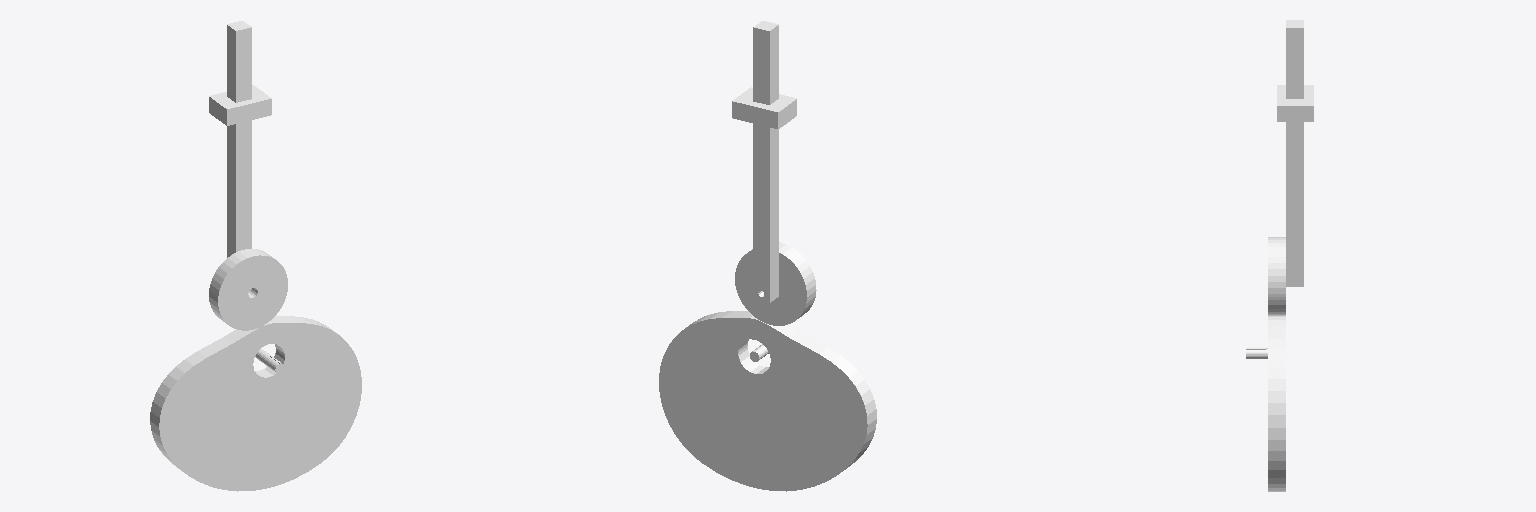
URDF robot description (cam.SLDASM):
<?xml version="1.0" encoding="utf-8"?>
<!-- This URDF was automatically created by SolidWorks to URDF Exporter! Originally created by [author] ([email redacted]) 
     Commit Version: 1.6.0-4-g7f85cfe  Build Version: 1.6.7995.38578
     For more information, please see http://wiki.ros.org/sw_urdf_exporter -->
<robot
  name="cam.SLDASM">
  <link
    name="base_link">
    <inertial>
      <origin
        xyz="0.00516771533428161 -0.14768022954333 0.0192011585485057"
        rpy="0 0 0" />
      <mass
        value="0.000625677275979962" />
      <inertia
        ixx="2.66695147124345E-08"
        ixy="-4.46270353436079E-12"
        ixz="-7.98052308845236E-12"
        iyy="2.66355625905794E-08"
        iyz="-6.18214002186702E-11"
        izz="2.83505957294567E-09" />
    </inertial>
    <visual>
      <origin
        xyz="0 0 0"
        rpy="0 0 0" />
      <geometry>
        <mesh
          filename="package://cam.SLDASM/meshes/base_link.STL" />
      </geometry>
      <material
        name="">
        <color
          rgba="1 1 1 1" />
      </material>
    </visual>
    <collision>
      <origin
        xyz="0 0 0"
        rpy="0 0 0" />
      <geometry>
        <mesh
          filename="package://cam.SLDASM/meshes/base_link.STL" />
      </geometry>
    </collision>
  </link>
  <link
    name="cam_link">
    <inertial>
      <origin
        xyz="-0.00356715717082566 -0.0284751150841584 0.00499971930811462"
        rpy="0 0 0" />
      <mass
        value="0.0932420859273589" />
      <inertia
        ixx="5.44448424617422E-05"
        ixy="1.9417859569232E-06"
        ixz="1.13490266794473E-10"
        iyy="9.84612983282398E-05"
        iyz="-2.23481033347778E-11"
        izz="0.0001513520083394" />
    </inertial>
    <visual>
      <origin
        xyz="0 0 0"
        rpy="0 0 0" />
      <geometry>
        <mesh
          filename="package://cam.SLDASM/meshes/cam_link.STL" />
      </geometry>
      <material
        name="">
        <color
          rgba="1 1 1 1" />
      </material>
    </visual>
    <collision>
      <origin
        xyz="0 0 0"
        rpy="0 0 0" />
      <geometry>
        <mesh
          filename="package://cam.SLDASM/meshes/cam_link.STL" />
      </geometry>
    </collision>
  </link>
  <joint
    name="joint1"
    type="continuous">
    <origin
      xyz="0.0051654 -0.0081691 -0.1477"
      rpy="1.5708 0.0054199 0" />
    <parent
      link="base_link" />
    <child
      link="cam_link" />
    <axis
      xyz="0 0 1" />
  </joint>
  <link
    name="link2">
    <inertial>
      <origin
        xyz="0.0029916353143129 -0.0786105751020638 0.005"
        rpy="0 0 0" />
      <mass
        value="0.0157169361063451" />
      <inertia
        ixx="3.2547397545957E-05"
        ixy="1.22788339509305E-21"
        ixz="-1.07819767184313E-23"
        iyy="2.62779971864936E-07"
        iyz="-3.95782292676014E-22"
        izz="3.25482285827161E-05" />
    </inertial>
    <visual>
      <origin
        xyz="0 0 0"
        rpy="0 0 0" />
      <geometry>
        <mesh
          filename="package://cam.SLDASM/meshes/link2.STL" />
      </geometry>
      <material
        name="">
        <color
          rgba="1 1 1 1" />
      </material>
    </visual>
    <collision>
      <origin
        xyz="0 0 0"
        rpy="0 0 0" />
      <geometry>
        <mesh
          filename="package://cam.SLDASM/meshes/link2.STL" />
      </geometry>
    </collision>
  </link>
  <joint
    name="joint2"
    type="prismatic">
    <origin
      xyz="-0.0078263 0.0018309 0.049232"
      rpy="1.5708 0 0" />
    <parent
      link="base_link" />
    <child
      link="link2" />
    <axis
      xyz="0 1 0" />
    <limit
      lower="0"
      upper="0"
      effort="0"
      velocity="0" />
  </joint>
  <link
    name="link3">
    <inertial>
      <origin
        xyz="1.22298005056365E-16 -1.2490009027033E-16 0.005"
        rpy="0 0 0" />
      <mass
        value="0.0149225651045515" />
      <inertia
        ixx="1.96356085834057E-06"
        ixy="7.94093388050907E-23"
        ixz="8.52679742638038E-22"
        iyy="1.96356085834057E-06"
        iyz="-6.31086664618679E-21"
        izz="3.67841229827195E-06" />
    </inertial>
    <visual>
      <origin
        xyz="0 0 0"
        rpy="0 0 0" />
      <geometry>
        <mesh
          filename="package://cam.SLDASM/meshes/link3.STL" />
      </geometry>
      <material
        name="">
        <color
          rgba="1 1 1 1" />
      </material>
    </visual>
    <collision>
      <origin
        xyz="0 0 0"
        rpy="0 0 0" />
      <geometry>
        <mesh
          filename="package://cam.SLDASM/meshes/link3.STL" />
      </geometry>
    </collision>
  </link>
  <joint
    name="joint3"
    type="continuous">
    <origin
      xyz="0.0029916 -0.15408 0.01"
      rpy="0 0 -0.12045" />
    <parent
      link="link2" />
    <child
      link="link3" />
    <axis
      xyz="0 0 1" />
  </joint>
  <link
    name="link4">
    <inertial>
      <origin
        xyz="0.00592225665564003 0.000450945063349195 0.00495182852239552"
        rpy="0 0 0" />
      <mass
        value="0.00468304605147202" />
      <inertia
        ixx="2.21532278505678E-07"
        ixy="-1.02213626415837E-23"
        ixz="-2.08051185398901E-10"
        iyy="5.52920229009265E-07"
        iyz="5.03242766367641E-22"
        izz="4.09438718028121E-07" />
    </inertial>
    <visual>
      <origin
        xyz="0 0 0"
        rpy="0 0 0" />
      <geometry>
        <mesh
          filename="package://cam.SLDASM/meshes/link4.STL" />
      </geometry>
      <material
        name="">
        <color
          rgba="1 1 1 1" />
      </material>
    </visual>
    <collision>
      <origin
        xyz="0 0 0"
        rpy="0 0 0" />
      <geometry>
        <mesh
          filename="package://cam.SLDASM/meshes/link4.STL" />
      </geometry>
    </collision>
  </link>
  <joint
    name="joint4"
    type="fixed">
    <origin
      xyz="-0.0098346 0.0020564 0.00068033"
      rpy="1.5708 0 0" />
    <parent
      link="base_link" />
    <child
      link="link4" />
    <axis
      xyz="0 0 0" />
  </joint>
</robot>

--- Facts derived from the render (not from the file) ---
Views: 3 orthographic renders of the robot side by side, from view 1: azimuth 30°, elevation 25°; view 2: azimuth 150°, elevation 25°; view 3: azimuth 270°, elevation 25°.
Robot: cam.SLDASM — 5 links, 4 joints (2 continuous, 1 prismatic, 1 fixed); root link base_link; default pose: every joint at zero.
Links seen in each view (by area): view 1: cam_link, link2, link3, link4; view 2: cam_link, link2, link3, link4; view 3: link2, cam_link, link3, link4.
Boxes of the visible links, x1,y1,x2,y2 form: cam_link: (150,316,361,491); link2: (227,21,251,257); link3: (209,249,287,330); link4: (209,85,271,125); cam_link: (659,311,876,491); link2: (753,21,778,302); link3: (735,242,816,325); link4: (732,87,796,129); link2: (1286,20,1303,286); cam_link: (1268,316,1285,491); link3: (1268,237,1285,315); link4: (1277,85,1313,121).
Bounding box of the posed robot: 0.1271 × 0.0373 × 0.2733 m (x, y, z).
5 mesh visuals loaded from 5 distinct referenced files (5 binary STL).